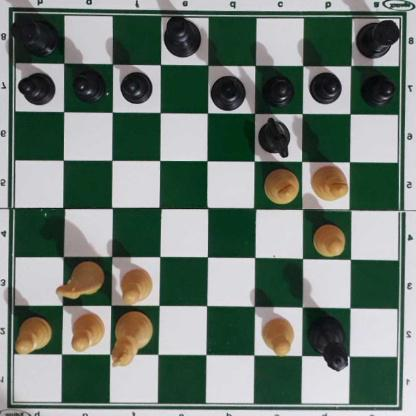black-bishop: (209, 75, 248, 112)
black-king: (163, 14, 204, 57)
black-knight: (258, 116, 293, 159)
black-pawn: (20, 69, 57, 105), (72, 68, 107, 102), (121, 68, 153, 103), (362, 72, 396, 104), (311, 70, 343, 104), (263, 72, 295, 106)
black-queen: (309, 313, 353, 372)
black-rook: (355, 15, 403, 58), (11, 13, 58, 55)
white-bishop: (263, 167, 301, 205), (311, 165, 350, 202)
white-king: (111, 310, 155, 368)
white-knight: (55, 260, 103, 300)
white-pawn: (70, 313, 107, 353), (118, 266, 155, 304), (262, 316, 297, 356), (16, 315, 53, 352), (312, 222, 349, 258)
